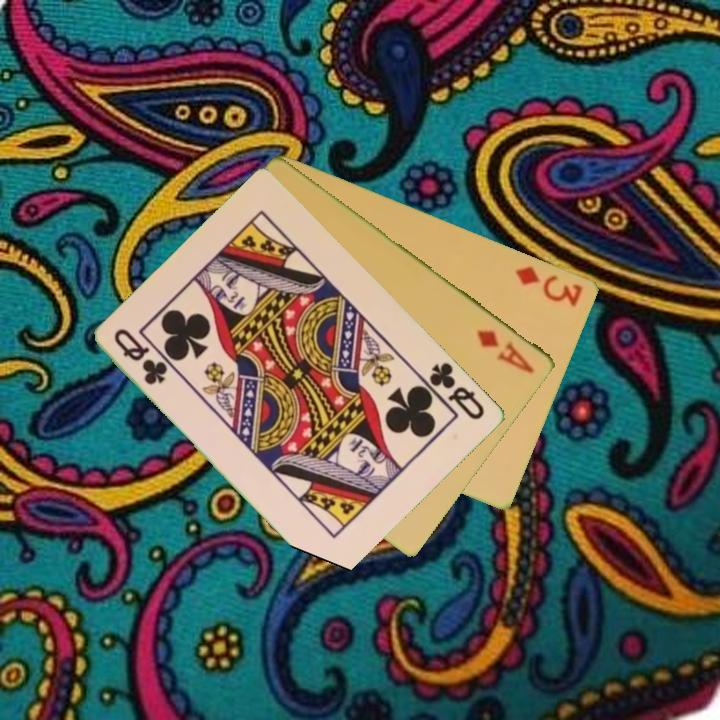3d: (512, 262, 586, 309)
Ad: (473, 325, 538, 377)
Qc: (417, 358, 488, 423), (111, 325, 171, 388)
